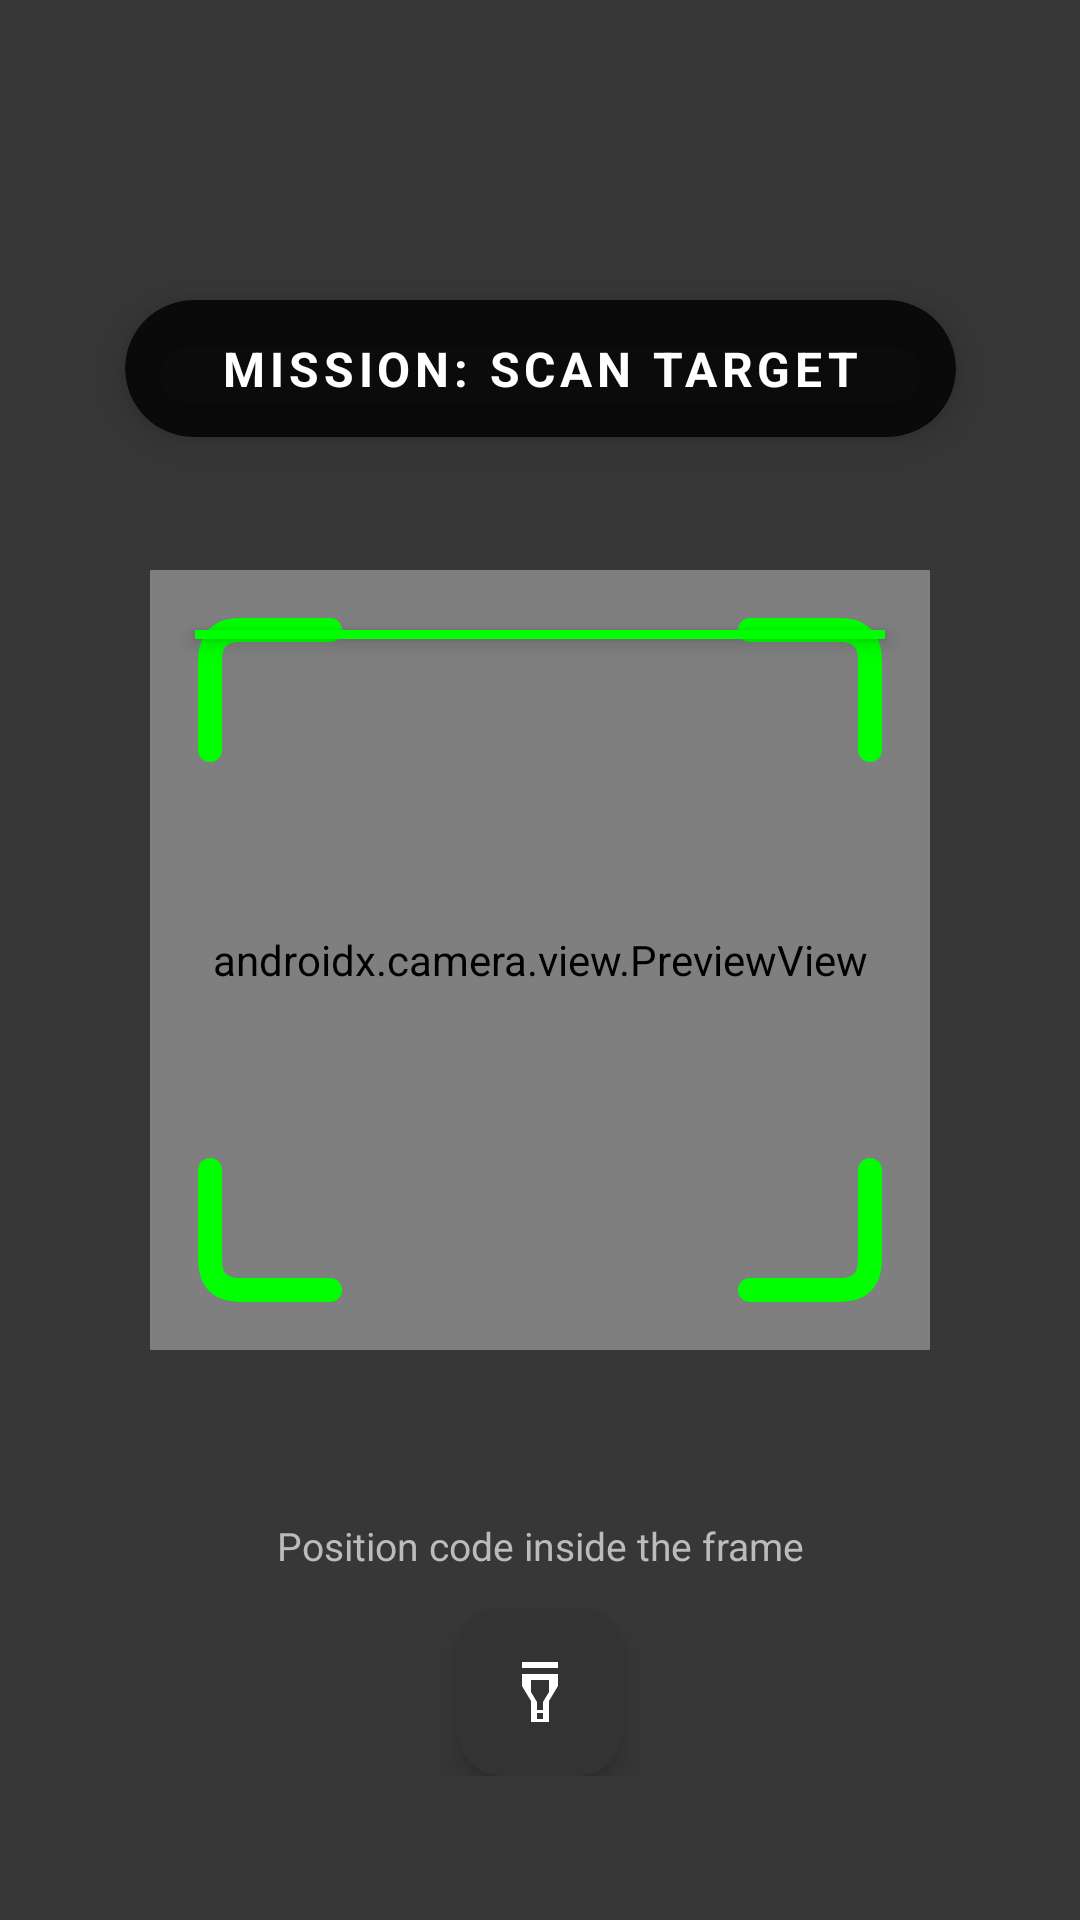

Where icons sit on this 1080px×1920px app screen, as (x1, y1, x2, y2):
Flashlight: (522, 1662, 558, 1722)
